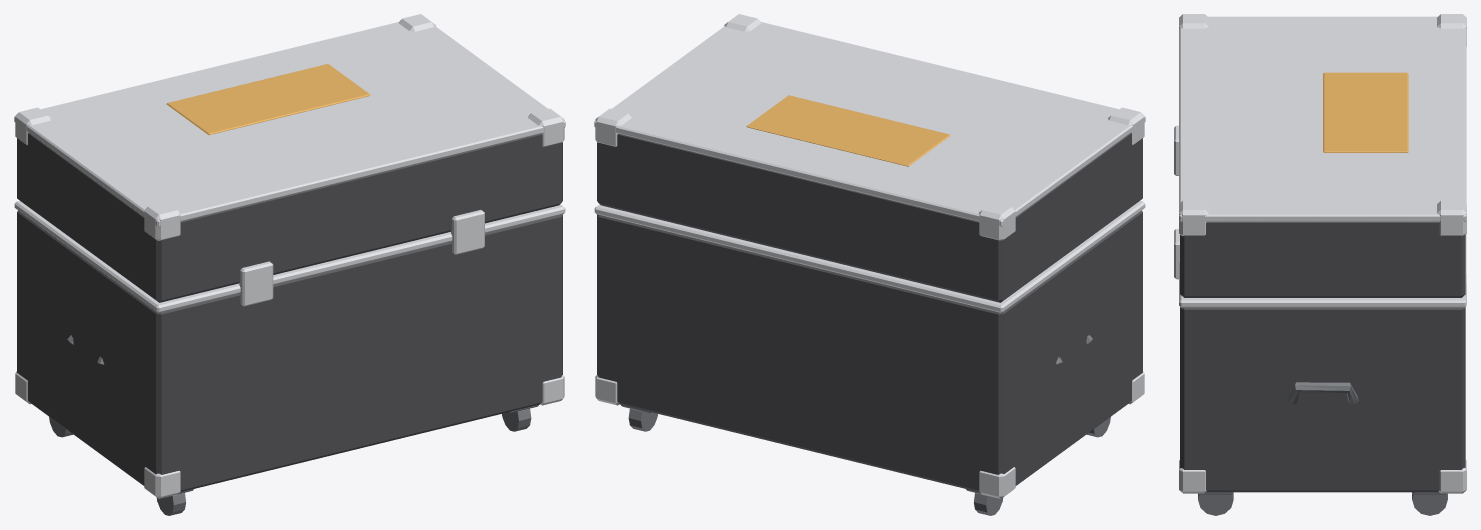
File: music-recording-studio-and-instruments-flight-case-lar-83887742__33824.glb
3 renders of one model, left to right at view 1: azimuth 30°, elevation 25°; view 2: azimuth 150°, elevation 25°; view 3: azimuth 270°, elevation 25°, orthographic.
Parts seen in each view (by area): view 1: flight-case-large, lid/metal, lid/gear, lid/accent; view 2: flight-case-large, lid/metal, lid/gear, lid/accent; view 3: flight-case-large, lid/metal, lid/gear, lid/accent.
Boxes of the visible parts, x1,y1,x2,y2 form: flight-case-large: (14, 201, 565, 515); lid/metal: (14, 14, 565, 240); lid/gear: (17, 133, 562, 302); lid/accent: (166, 64, 370, 134); flight-case-large: (594, 201, 1145, 515); lid/metal: (594, 14, 1145, 240); lid/gear: (597, 133, 1142, 302); lid/accent: (746, 95, 950, 166); flight-case-large: (1174, 125, 1466, 515); lid/metal: (1179, 14, 1466, 236); lid/gear: (1180, 222, 1465, 297); lid/accent: (1323, 72, 1408, 152).
Size of the model in its own units: 0.9672 by 0.686 by 0.5745.
